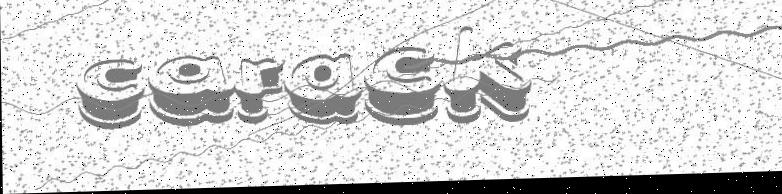a: (148, 56, 235, 130), (285, 56, 362, 127)
c: (363, 49, 442, 130), (76, 57, 146, 132)
k: (442, 27, 533, 129)
r: (236, 57, 285, 126)
